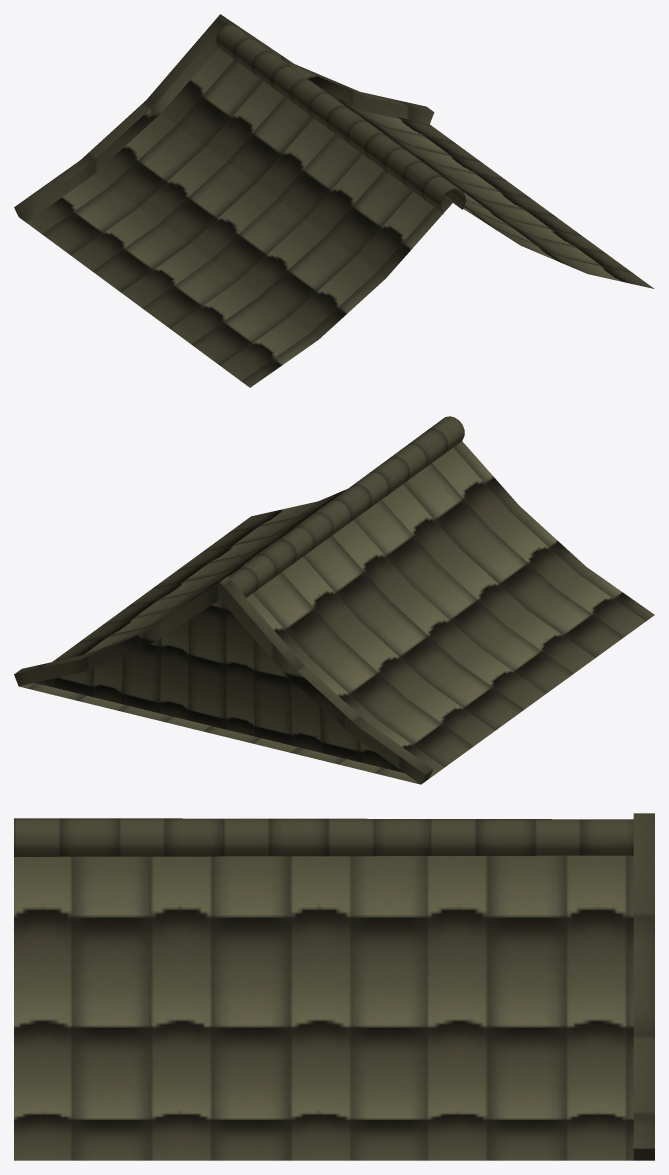
File: NNJ0510049.fbx
3 renders of one model, top to bottom at view 1: azimuth 30°, elevation 25°; view 2: azimuth 150°, elevation 25°; view 3: azimuth 270°, elevation 25°, orthographic. The views are drawn at different scales.
Parts seen in each view (by area): view 1: smNNJ0510049; view 2: smNNJ0510049; view 3: smNNJ0510049.
Boxes of the visible parts, x1,y1,x2,y2 form: smNNJ0510049: (14,14,654,387); smNNJ0510049: (14,416,654,784); smNNJ0510049: (14,813,654,1160).
Size of the model in its own units: 283 by 101 by 276.
1 material, 1 textured.
